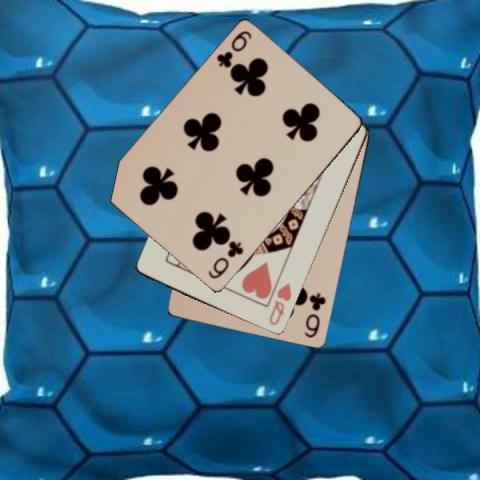6c: (205, 238, 245, 281), (214, 27, 253, 70), (301, 291, 328, 339)
Qh: (266, 280, 293, 327)
